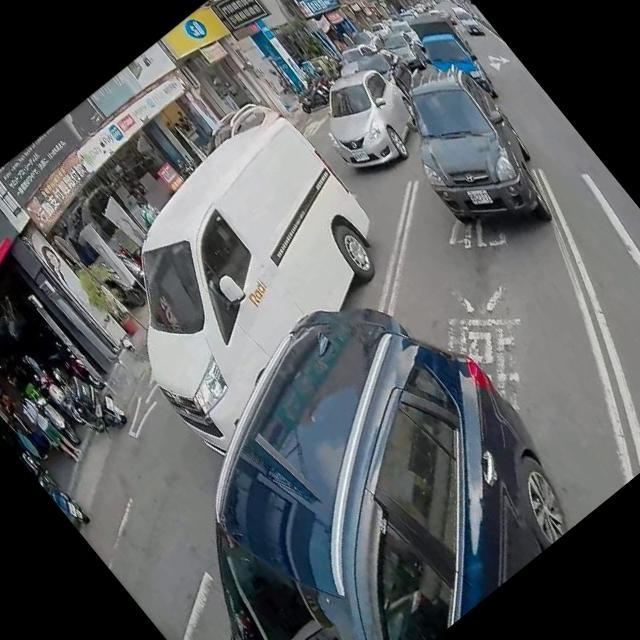person: (12, 394, 90, 482), (0, 395, 57, 469), (127, 203, 156, 234)
